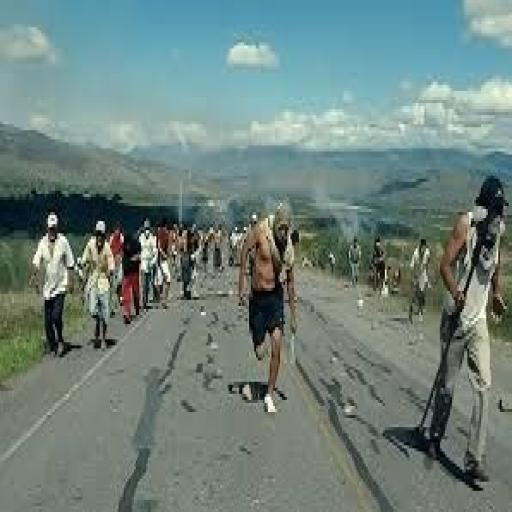running: (421, 170, 510, 488), (235, 200, 301, 418), (28, 209, 78, 361), (78, 215, 118, 355)
